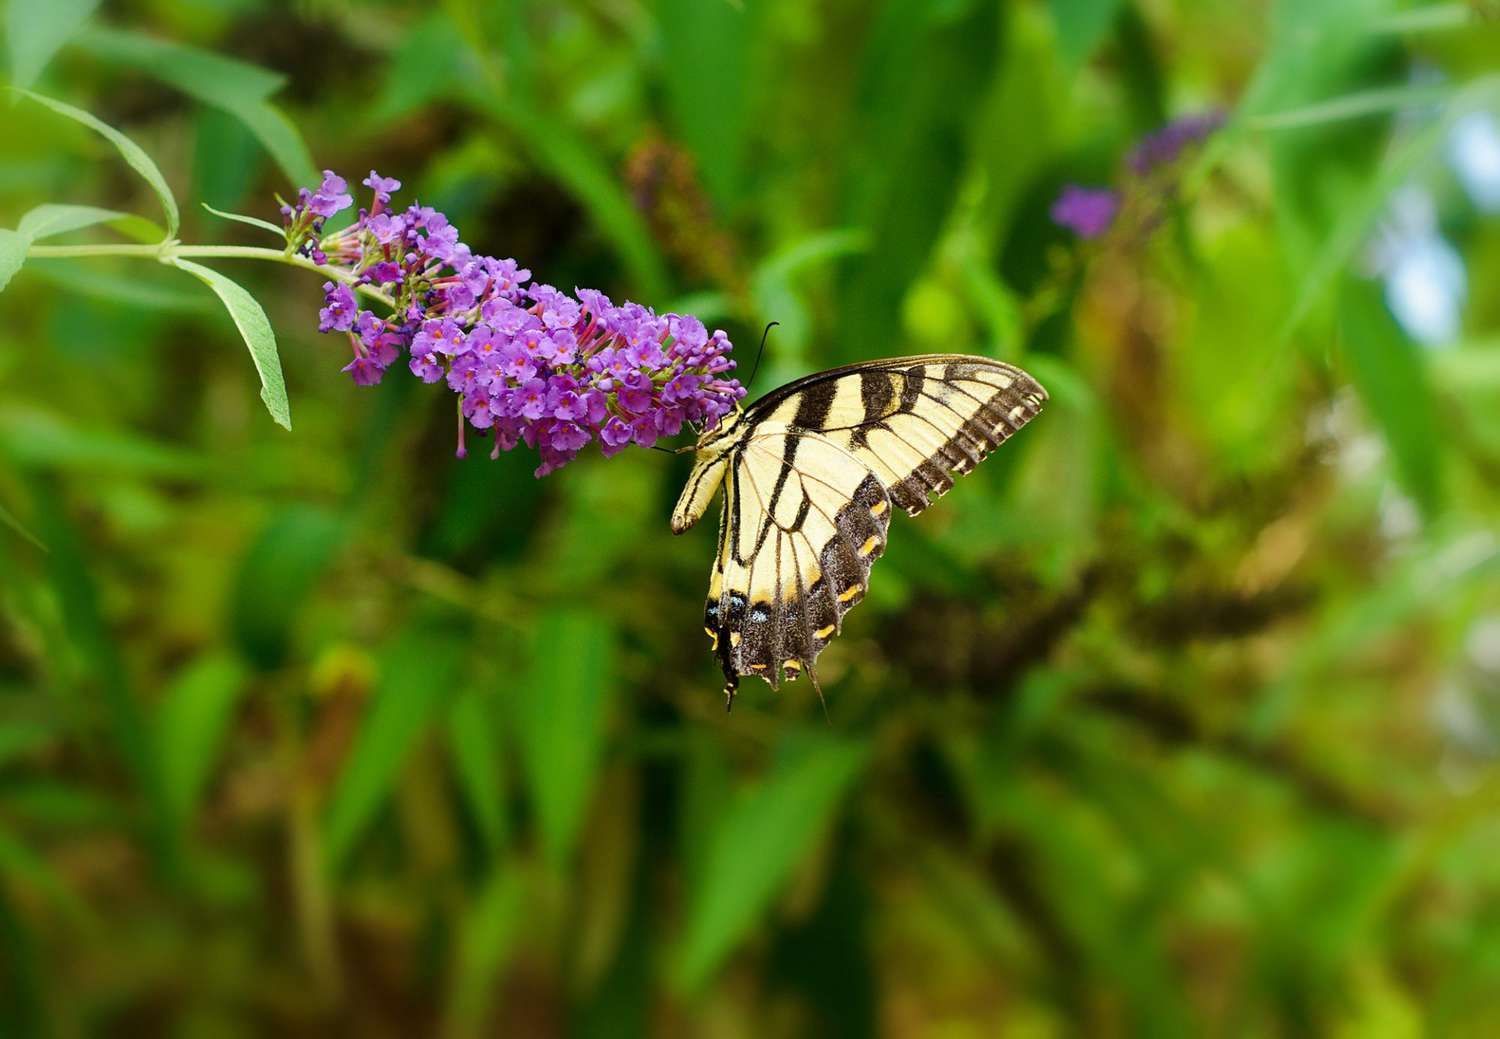Butterfly: (671, 320, 1053, 707)
